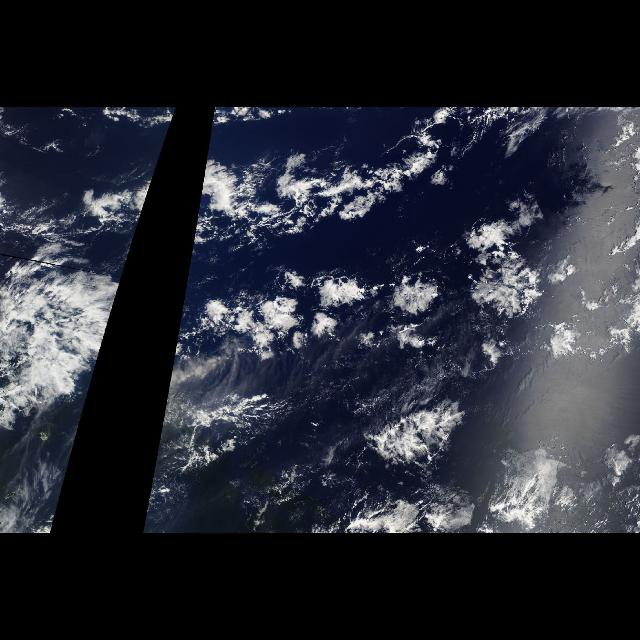Flower: (208, 127, 636, 521)
